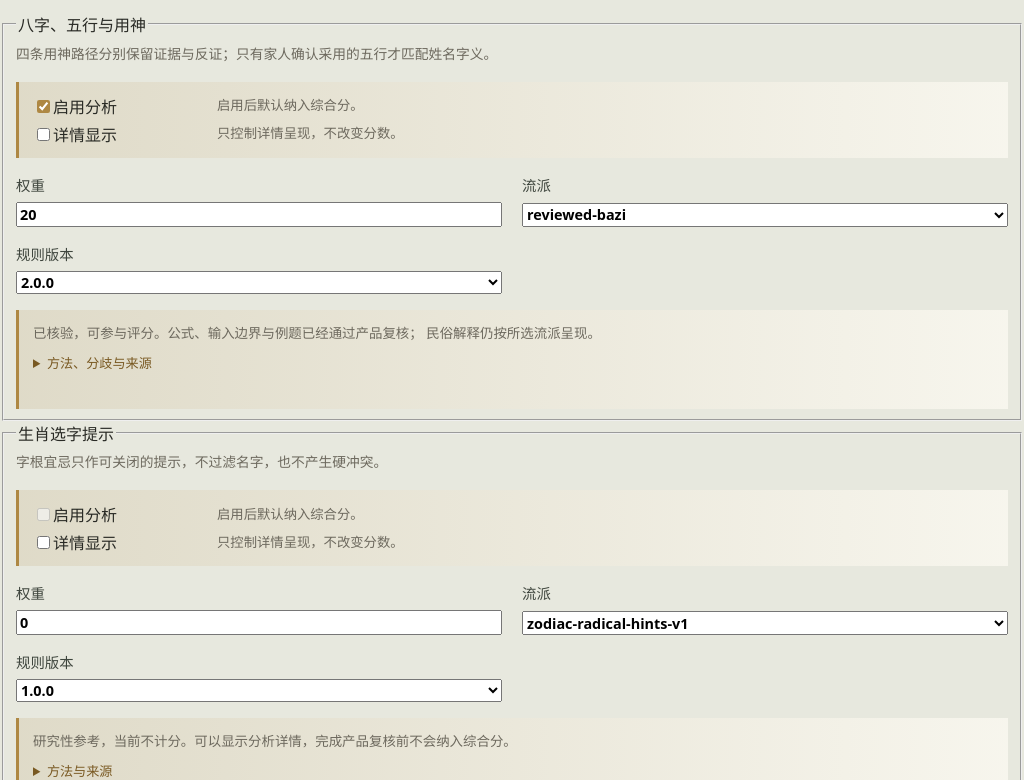
FolkloreConfigurationSections › supports weight, school and version changes while clearing analysis for unreviewed packs
Step 1. Replace the text in the number field named "八字、五行与用神权重" with "25" → (259, 214), box [16,202,502,227]
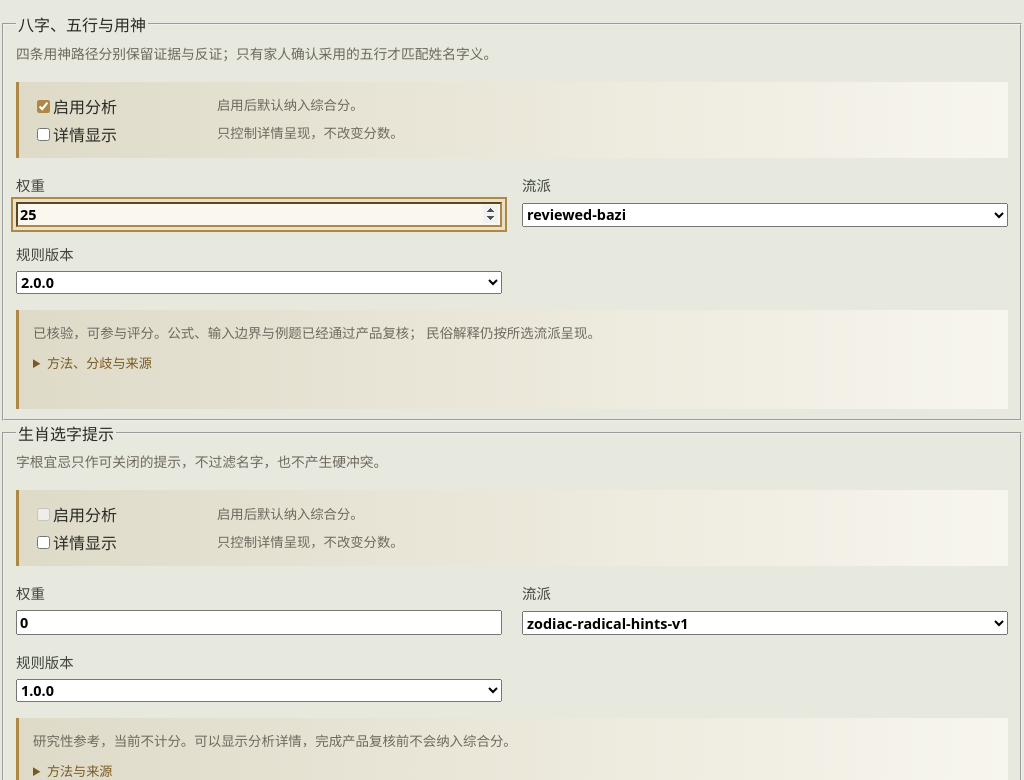
Step 2. Select "research-bazi" in the dropdown named "八字、五行与用神流派" → (765, 215), box [522,203,1008,227]
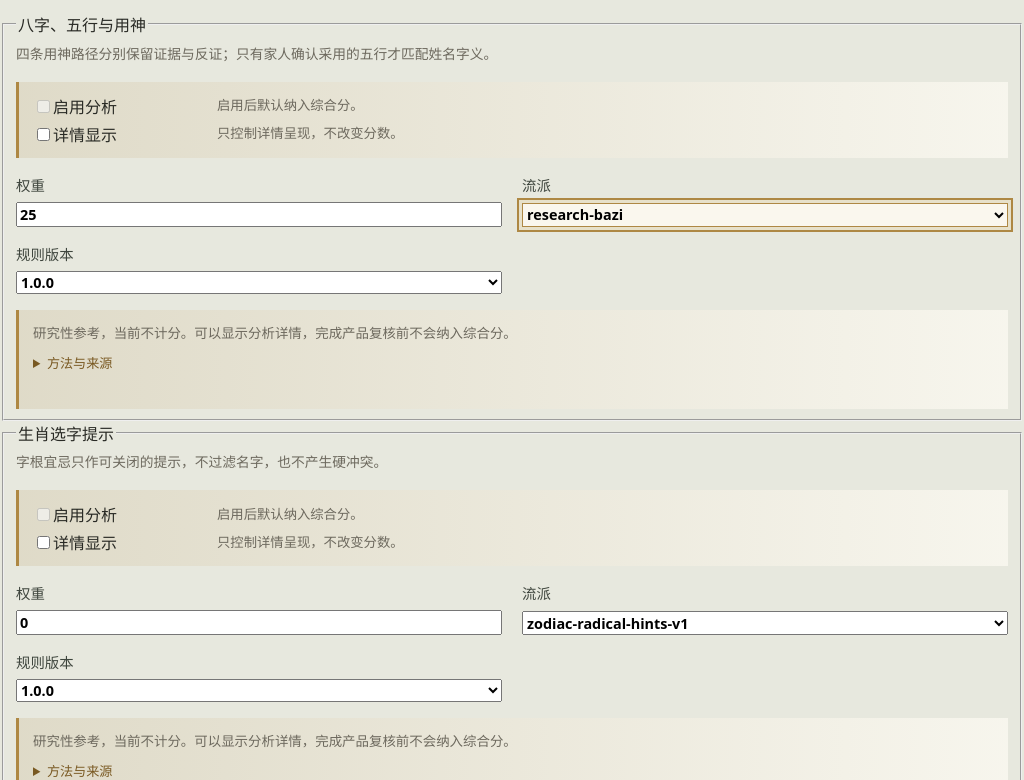
expect the checkbox labelled "启用分析" below "四条用神路径分别保留证据与反证；只有家人确认采用的五行才匹配姓名字义。" is not checked: met, box [37,100,50,113]
expect the text "研究性参考，当前不计分" below "四条用神路径分别保留证据与反证；只有家人确认采用的五行才匹配姓名字义。" is shown: met, box [33,324,181,342]
